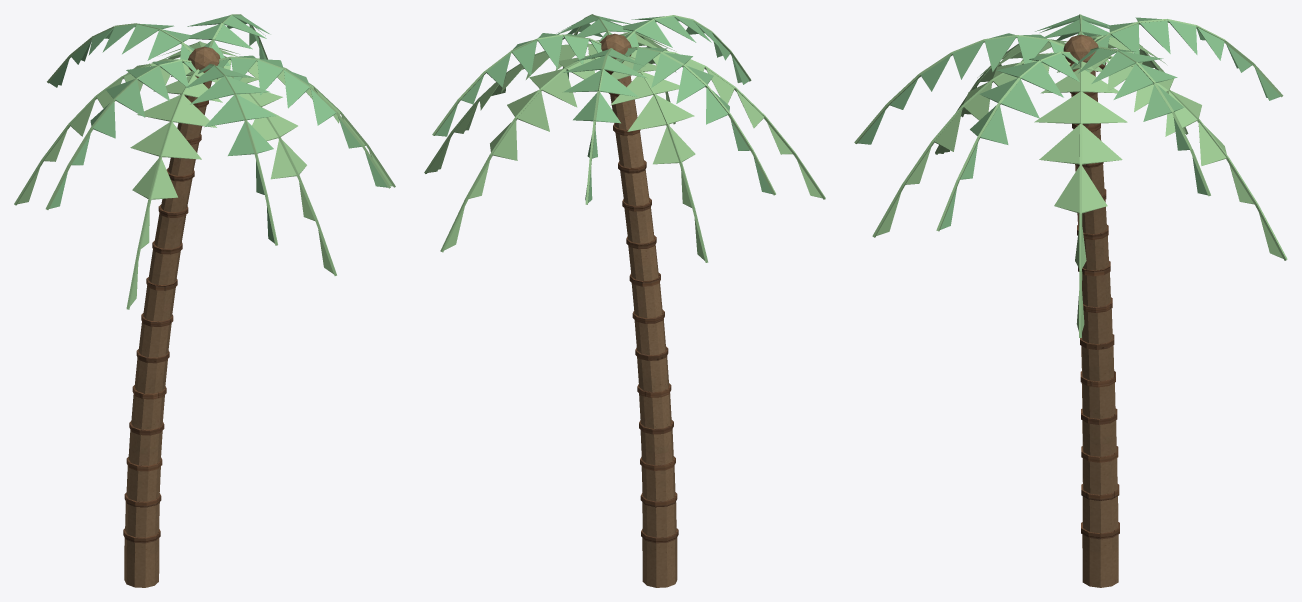
The model's file is palm.glb.
The picture shows the model from 3 angles, left to right: view 1: azimuth 30°, elevation 25°; view 2: azimuth 150°, elevation 25°; view 3: azimuth 270°, elevation 25°; orthographic projection. The views are drawn at different scales.
Parts seen in each view (by area): view 1: palm_palm2, palm_palm, palm_bark, palm_dkwood; view 2: palm_palm2, palm_bark, palm_palm, palm_dkwood; view 3: palm_palm2, palm_palm, palm_bark, palm_dkwood.
Part boxes in pixels (x1,y1,x2,y2): palm_palm2: (14, 14, 395, 309); palm_palm: (49, 15, 387, 243); palm_bark: (124, 46, 220, 587); palm_dkwood: (123, 67, 223, 543); palm_palm2: (424, 14, 825, 262); palm_bark: (600, 33, 677, 587); palm_palm: (435, 15, 772, 202); palm_dkwood: (605, 70, 678, 543); palm_palm2: (854, 14, 1287, 337); palm_palm: (857, 15, 1280, 229); palm_bark: (1063, 34, 1118, 587); palm_dkwood: (1069, 62, 1119, 539).
Bounding box in the file's own units: 4.57 × 6.61 × 4.5.
4 materials, 2 textured.
